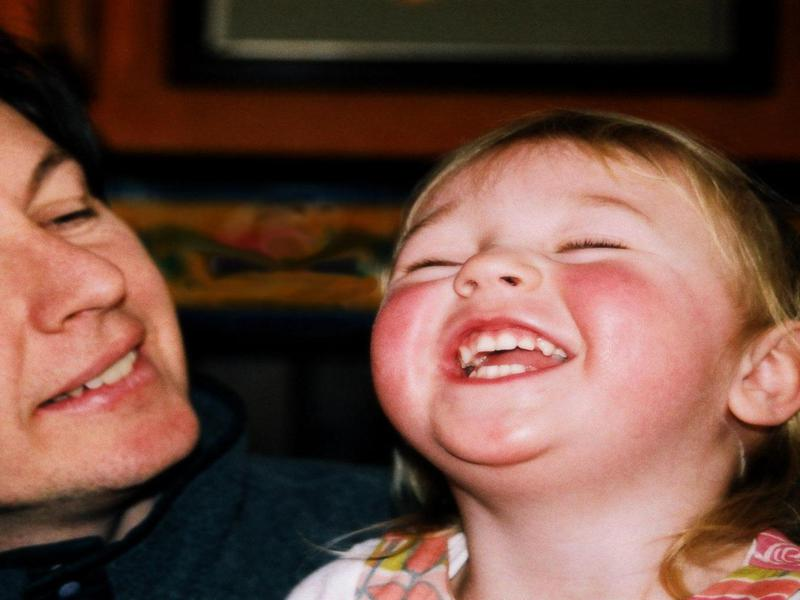person: (295, 109, 799, 600), (1, 52, 406, 600)
